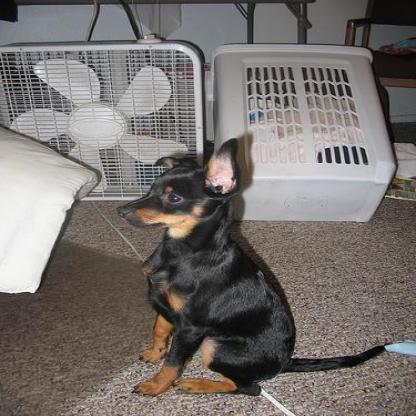Doberman: (112, 137, 394, 394)
